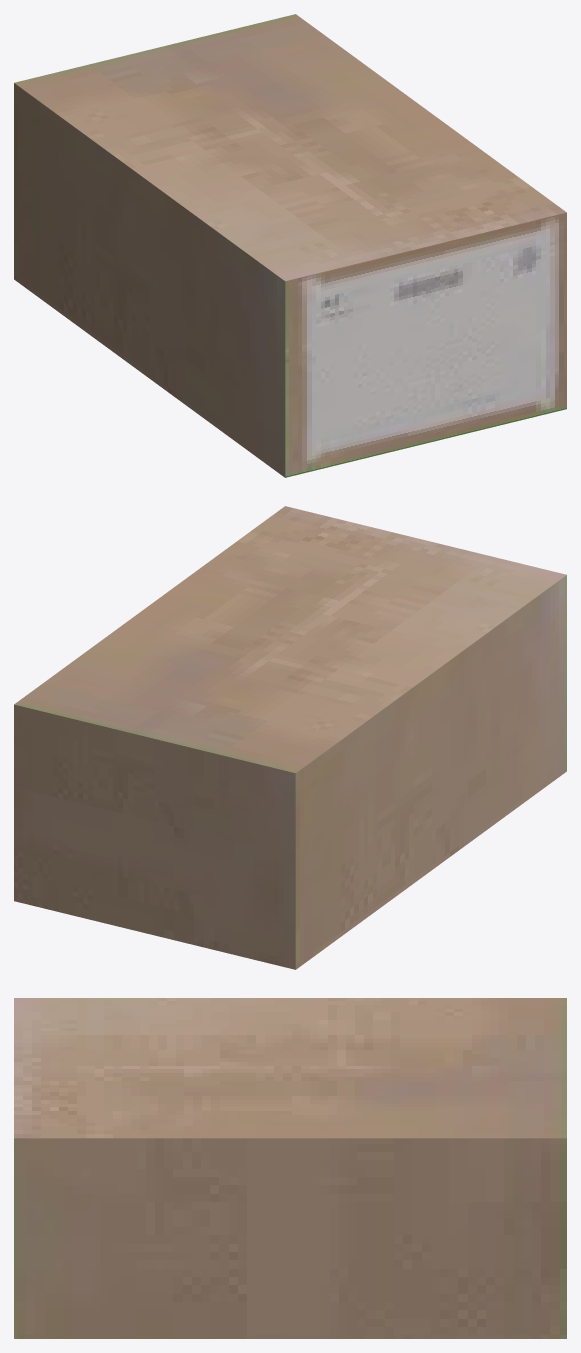
The model's file is w_cardboard-box.glb.
3 views of the same model, one above another, from view 1: azimuth 30°, elevation 25°; view 2: azimuth 150°, elevation 25°; view 3: azimuth 270°, elevation 25° (orthographic).
Visible parts, largest first — view 1: Box; view 2: Box; view 3: Box.
Boxes of the visible parts, bbox=[...] form: Box: bbox=[14, 14, 566, 477]; Box: bbox=[14, 506, 566, 969]; Box: bbox=[14, 998, 566, 1338].
Size of the model in its own units: 0.3 by 0.2 by 0.5.
1 material, 1 textured.
